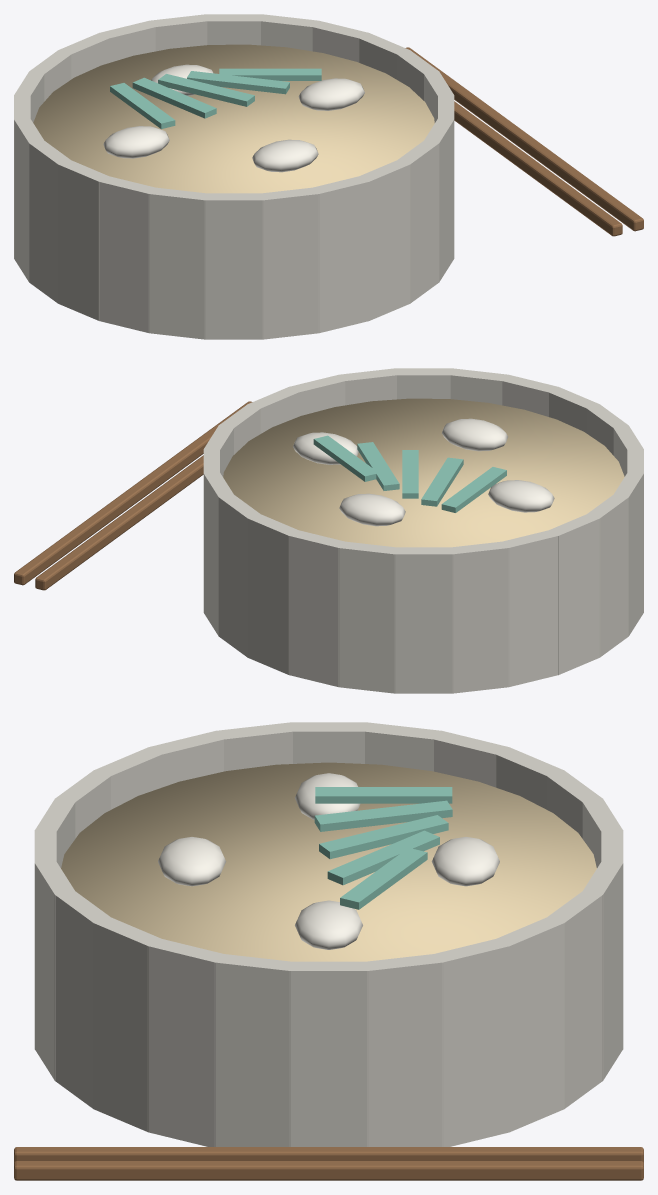
Rendered from Daegutang_blockout.glb.
The picture shows the model from 3 angles, top to bottom: view 1: azimuth 30°, elevation 25°; view 2: azimuth 150°, elevation 25°; view 3: azimuth 270°, elevation 25°; orthographic projection. The views are drawn at different scales.
Visible parts, largest first — view 1: FOOD08_Daegutang_Broth_L0, FOOD08_Daegutang_BowlRim16_L0, FOOD08_Daegutang_BowlRim17_L0, FOOD08_Daegutang_BowlRim15_L0, FOOD08_Daegutang_BowlRim18_L0, FOOD08_Daegutang_BowlRim14_L0, FOOD08_Daegutang_BowlRim13_L0, FOOD08_Daegutang_BowlRim19_L0, FOOD08_Daegutang_BowlRim20_L0, FOOD08_Daegutang_BowlRim12_L0, FOOD08_Daegutang_Chopstick1_L0, FOOD08_Daegutang_Chopstick0_L0 (+24 smaller); view 2: FOOD08_Daegutang_Broth_L0, FOOD08_Daegutang_BowlRim8_L0, FOOD08_Daegutang_BowlRim7_L0, FOOD08_Daegutang_BowlRim9_L0, FOOD08_Daegutang_BowlRim10_L0, FOOD08_Daegutang_BowlRim6_L0, FOOD08_Daegutang_BowlRim11_L0, FOOD08_Daegutang_BowlRim5_L0, FOOD08_Daegutang_BowlRim12_L0, FOOD08_Daegutang_BowlRim4_L0, FOOD08_Daegutang_Chopstick1_L0, FOOD08_Daegutang_Chopstick0_L0 (+24 smaller); view 3: FOOD08_Daegutang_Broth_L0, FOOD08_Daegutang_BowlRim0_L0, FOOD08_Daegutang_BowlRim1_L0, FOOD08_Daegutang_BowlRim23_L0, FOOD08_Daegutang_BowlRim2_L0, FOOD08_Daegutang_BowlRim22_L0, FOOD08_Daegutang_Chopstick1_L0, FOOD08_Daegutang_BowlRim21_L0, FOOD08_Daegutang_BowlRim3_L0, FOOD08_Daegutang_Chopstick0_L0, FOOD08_Daegutang_BowlRim4_L0, FOOD08_Daegutang_BowlRim20_L0 (+24 smaller).
Boxes of the visible parts, left/top/right/bottom form: FOOD08_Daegutang_Broth_L0: left=33, top=44, right=434, bottom=193; FOOD08_Daegutang_BowlRim16_L0: left=204, top=193, right=263, bottom=339; FOOD08_Daegutang_BowlRim17_L0: left=258, top=187, right=319, bottom=339; FOOD08_Daegutang_BowlRim15_L0: left=148, top=187, right=209, bottom=339; FOOD08_Daegutang_BowlRim18_L0: left=311, top=175, right=369, bottom=332; FOOD08_Daegutang_BowlRim14_L0: left=98, top=176, right=157, bottom=332; FOOD08_Daegutang_BowlRim13_L0: left=57, top=160, right=110, bottom=320; FOOD08_Daegutang_BowlRim19_L0: left=358, top=160, right=410, bottom=320; FOOD08_Daegutang_BowlRim20_L0: left=396, top=139, right=439, bottom=303; FOOD08_Daegutang_BowlRim12_L0: left=29, top=139, right=72, bottom=303; FOOD08_Daegutang_Chopstick1_L0: left=405, top=47, right=643, bottom=231; FOOD08_Daegutang_Chopstick0_L0: left=454, top=101, right=622, bottom=236; FOOD08_Daegutang_Broth_L0: left=223, top=398, right=624, bottom=547; FOOD08_Daegutang_BowlRim8_L0: left=394, top=547, right=453, bottom=693; FOOD08_Daegutang_BowlRim7_L0: left=338, top=541, right=398, bottom=693; FOOD08_Daegutang_BowlRim9_L0: left=451, top=541, right=509, bottom=693; FOOD08_Daegutang_BowlRim10_L0: left=500, top=530, right=559, bottom=686; FOOD08_Daegutang_BowlRim6_L0: left=288, top=530, right=346, bottom=686; FOOD08_Daegutang_BowlRim11_L0: left=547, top=514, right=600, bottom=674; FOOD08_Daegutang_BowlRim5_L0: left=247, top=515, right=299, bottom=674; FOOD08_Daegutang_BowlRim12_L0: left=586, top=493, right=628, bottom=657; FOOD08_Daegutang_BowlRim4_L0: left=218, top=493, right=261, bottom=657; FOOD08_Daegutang_Chopstick1_L0: left=14, top=401, right=252, bottom=585; FOOD08_Daegutang_Chopstick0_L0: left=35, top=455, right=203, bottom=590; FOOD08_Daegutang_Broth_L0: left=61, top=762, right=596, bottom=961; FOOD08_Daegutang_BowlRim0_L0: left=289, top=961, right=368, bottom=1146; FOOD08_Daegutang_BowlRim1_L0: left=363, top=953, right=443, bottom=1146; FOOD08_Daegutang_BowlRim23_L0: left=214, top=953, right=296, bottom=1146; FOOD08_Daegutang_BowlRim2_L0: left=432, top=938, right=510, bottom=1146; FOOD08_Daegutang_BowlRim22_L0: left=147, top=939, right=225, bottom=1146; FOOD08_Daegutang_Chopstick1_L0: left=14, top=1161, right=643, bottom=1180; FOOD08_Daegutang_BowlRim21_L0: left=93, top=916, right=163, bottom=1132; FOOD08_Daegutang_BowlRim3_L0: left=495, top=916, right=564, bottom=1132; FOOD08_Daegutang_Chopstick0_L0: left=14, top=1147, right=643, bottom=1162; FOOD08_Daegutang_BowlRim4_L0: left=548, top=890, right=603, bottom=1108; FOOD08_Daegutang_BowlRim20_L0: left=54, top=891, right=111, bottom=1108.
Bounding box in the file's own units: 0.2725 × 0.0785 × 0.23.
